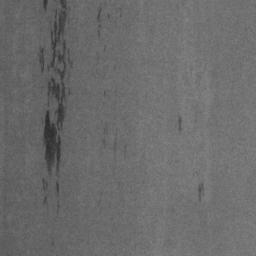Iron scale compression: (41, 0, 70, 175), (198, 183, 204, 203), (180, 116, 184, 134)
